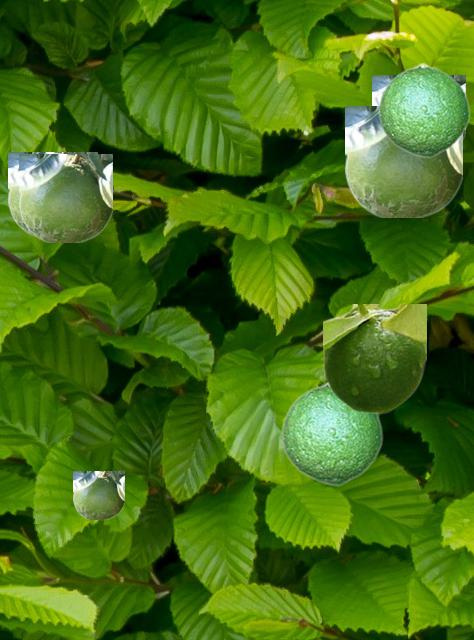dalandan: (345, 106, 461, 216), (323, 304, 425, 412), (280, 381, 382, 485), (377, 62, 469, 157), (19, 154, 111, 241), (8, 152, 96, 235), (372, 75, 464, 143), (73, 471, 123, 518)
